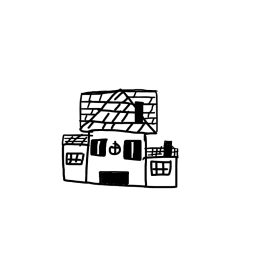chimney: (132, 99, 150, 125), (160, 139, 178, 158)
closed_window: (148, 159, 175, 180), (122, 138, 143, 164), (89, 137, 109, 162), (64, 151, 86, 170)
door: (96, 165, 134, 190)
roof: (71, 86, 165, 134)
small_house: (3, 1, 260, 260)
wall: (84, 127, 149, 190)
